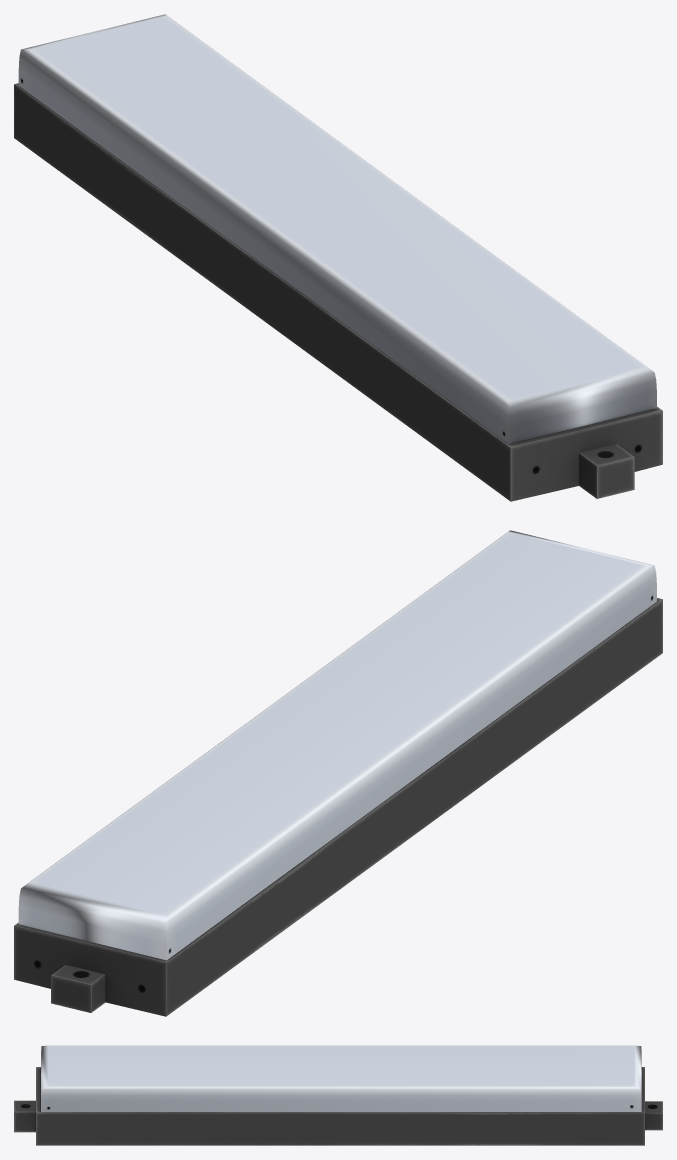
Rendered from lamp.fbx.
3 views of the same model, one above another, from view 1: azimuth 30°, elevation 25°; view 2: azimuth 150°, elevation 25°; view 3: azimuth 270°, elevation 25° (orthographic). The views are drawn at different scales.
Visible parts, largest first — view 1: bulp, base; view 2: bulp, base; view 3: bulp, base.
Boxes of the visible parts, <box> form: bulp: <box>18,14,656,444</box>; base: <box>14,83,662,501</box>; bulp: <box>18,530,656,960</box>; base: <box>14,598,662,1016</box>; bulp: <box>41,1045,641,1111</box>; base: <box>14,1067,662,1145</box>.
Size of the model in its own units: 19.38 by 11.39 by 117.
